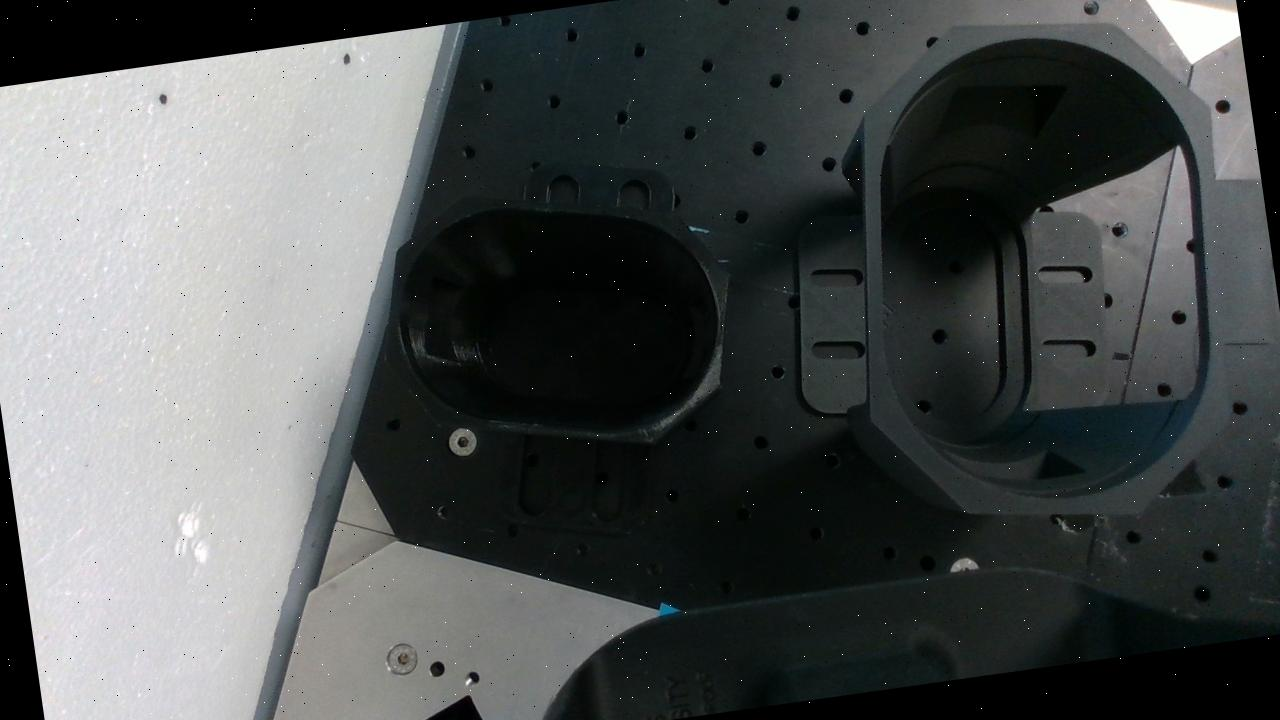big_interface: (816, 0, 1265, 550)
small_interface: (365, 160, 752, 480)
